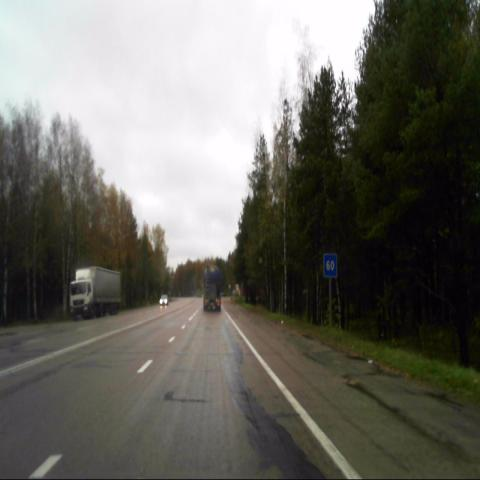6_2: (324, 254, 338, 280)
